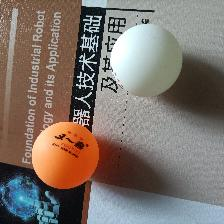WhiteBall: (110, 23, 183, 97)
YellowBall: (30, 121, 99, 189)
